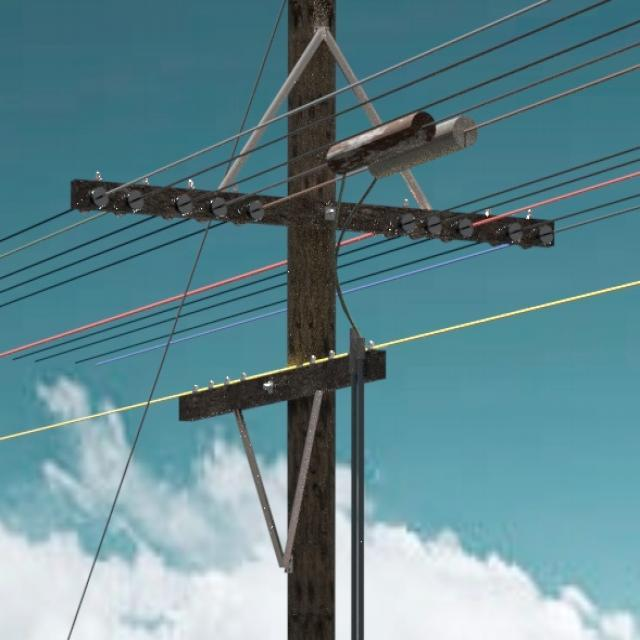crossarm: (71, 179, 556, 250), (178, 332, 386, 421)
pole: (276, 0, 336, 640)
